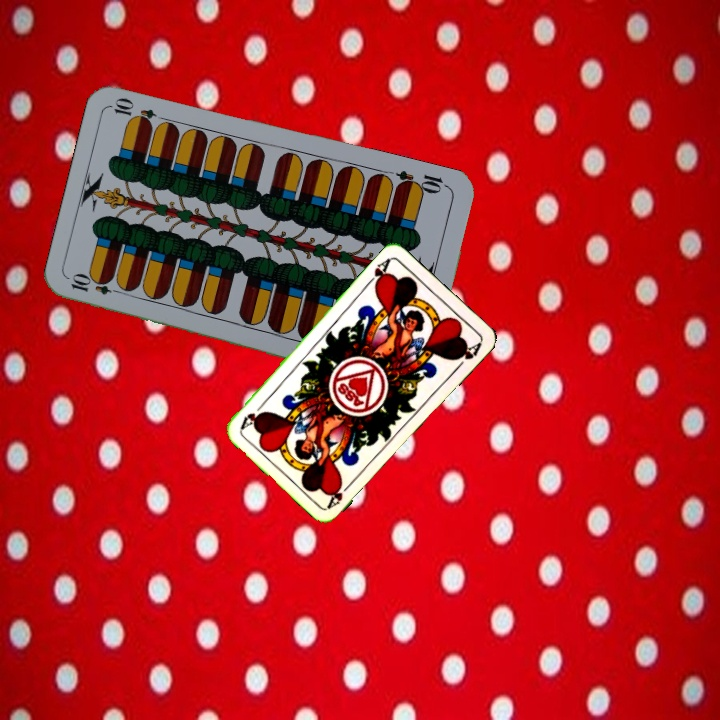E10: (392, 166, 451, 197), (67, 272, 126, 298)
HA: (362, 254, 393, 290), (324, 477, 356, 511)
